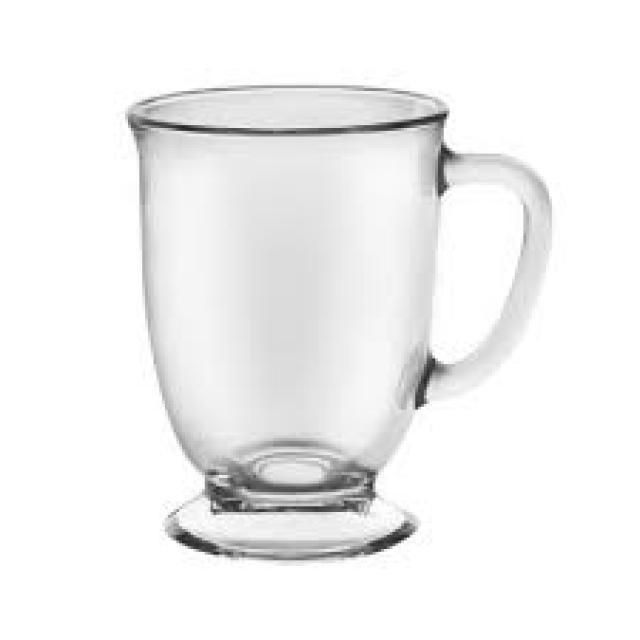Glass: (124, 78, 551, 560)
